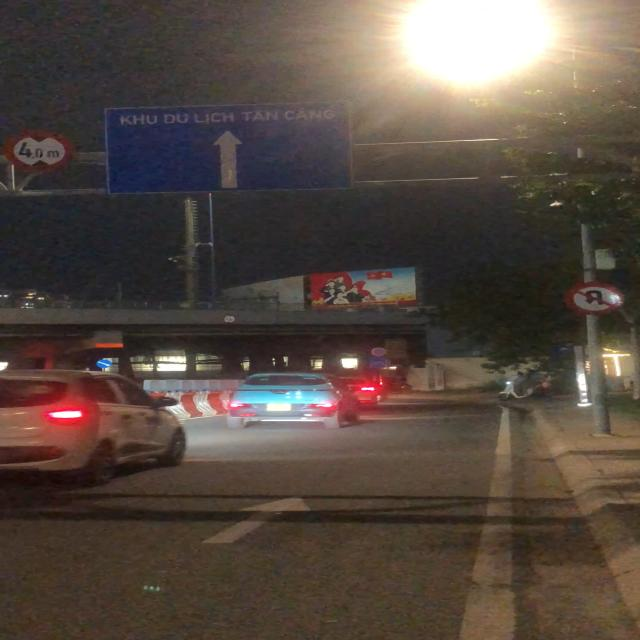Bien bao cam quay dau xe: (561, 279, 626, 318)
Bien bao han che chieu cao: (2, 128, 78, 172)
